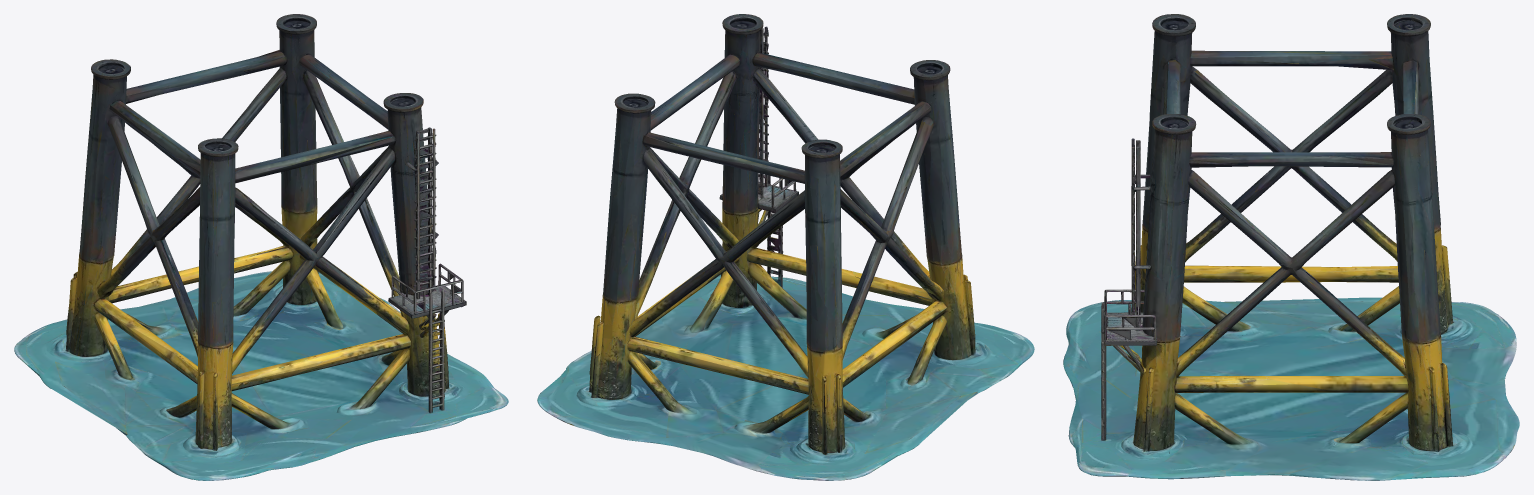
The model's file is platform_jacket.glb.
3 views of the same model, side by side, from view 1: azimuth 30°, elevation 25°; view 2: azimuth 150°, elevation 25°; view 3: azimuth 270°, elevation 25° (orthographic). The views are drawn at different scales.
Bounding box in the file's own units: 1.8 × 1.47 × 1.9.
Materials: 1 (1 with a texture image).
